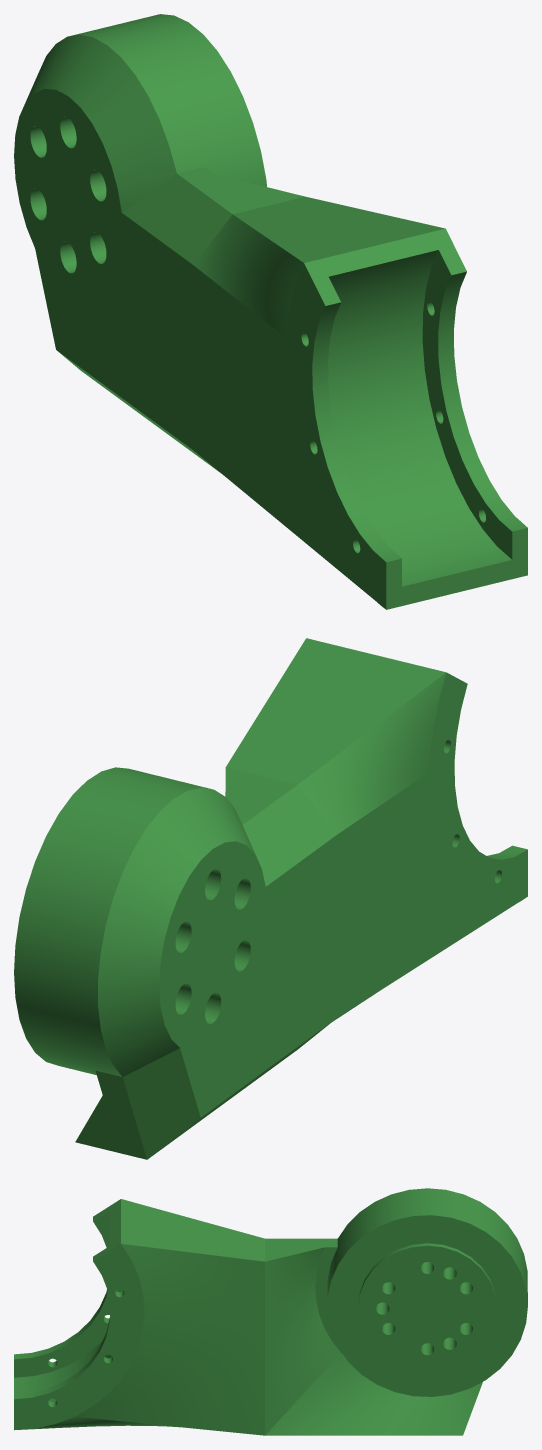
File: LowerLegLeft.dae
The picture shows the model from 3 angles, top to bottom: view 1: azimuth 30°, elevation 25°; view 2: azimuth 150°, elevation 25°; view 3: azimuth 270°, elevation 25°; orthographic projection. The views are drawn at different scales.
Parts seen in each view (by area): view 1: LowerLegLeft; view 2: LowerLegLeft; view 3: LowerLegLeft.
Part boxes in pixels (x1,y1,x2,y2): LowerLegLeft: [14, 14, 527, 609]; LowerLegLeft: [14, 638, 527, 1159]; LowerLegLeft: [14, 1188, 527, 1435].
Bounding box in the file's own units: 0.036 × 0.174 × 0.0838.
